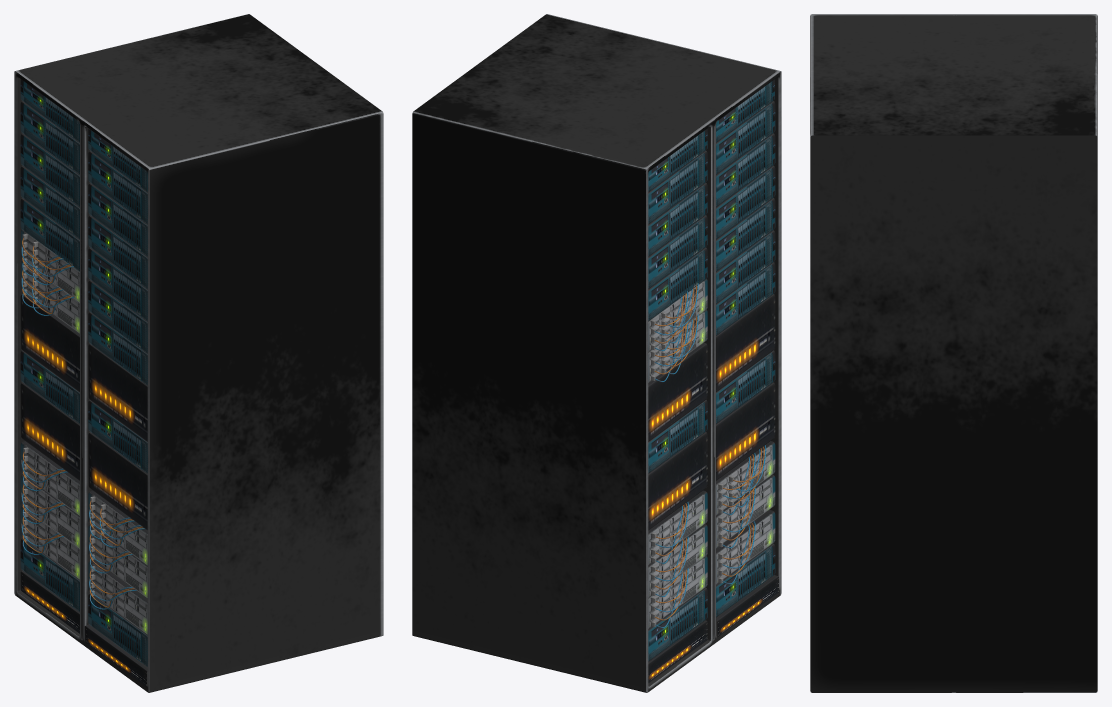
File: SM_Server.fbx
3 views of the same model, side by side, from view 1: azimuth 30°, elevation 25°; view 2: azimuth 150°, elevation 25°; view 3: azimuth 270°, elevation 25° (orthographic). The views are drawn at different scales.
Visible parts, largest first — view 1: SM_Server_LOD0; view 2: SM_Server_LOD0; view 3: SM_Server_LOD0.
Boxes of the visible parts, <box> form: SM_Server_LOD0: <box>14,14,383,692</box>; SM_Server_LOD0: <box>412,14,781,692</box>; SM_Server_LOD0: <box>810,14,1097,692</box>.
Bounding box in the file's own units: 103 × 100 × 214.
